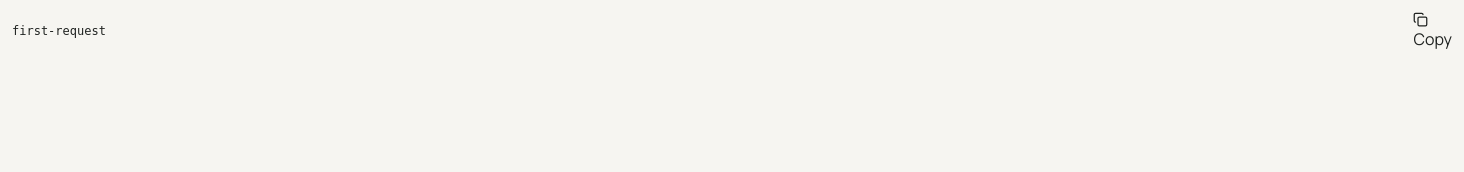
Test: does not carry successful feedback to a changed reference
Later steps or results of the test are not shown.
Click the button with aria-label "Copy request reference". click: {"x": 1433, "y": 32}
box: [1414,12,1452,51]
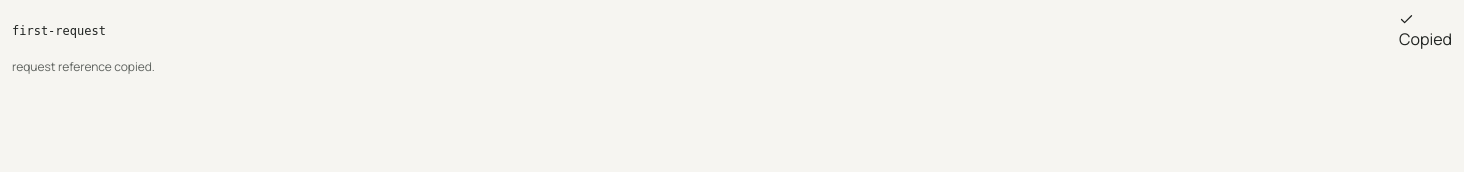
Expected: the message "request reference copied." is not empty, [12,58,155,75]
